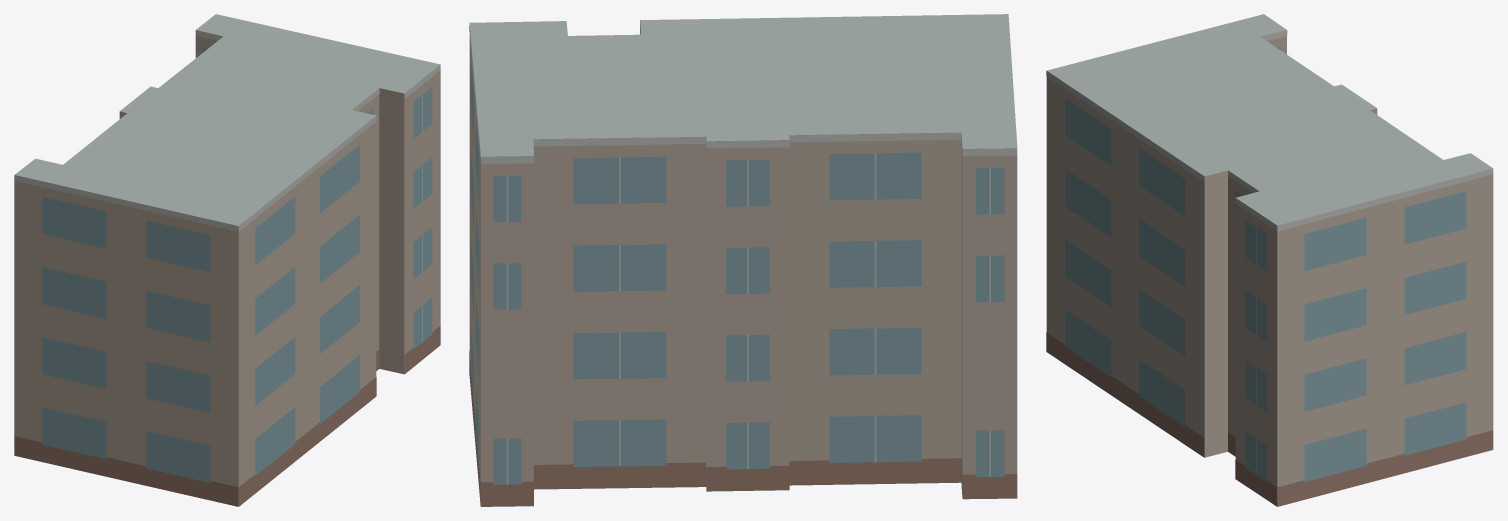
The model's file is survey-upis-32612933.glb.
The picture shows the model from 3 angles, left to right: view 1: azimuth 30°, elevation 25°; view 2: azimuth 150°, elevation 25°; view 3: azimuth 270°, elevation 25°; orthographic projection. The views are drawn at different scales.
Parts seen in each view (by area): view 1: survey-upis-32612933.tmp; view 2: survey-upis-32612933.tmp; view 3: survey-upis-32612933.tmp.
Part boxes in pixels (left/top/right/bottom): survey-upis-32612933.tmp: left=14, top=14, right=440, bottom=506; survey-upis-32612933.tmp: left=469, top=14, right=1017, bottom=506; survey-upis-32612933.tmp: left=1046, top=14, right=1493, bottom=506.
Bounding box in the file's own units: 19.04 × 11.8 × 17.
